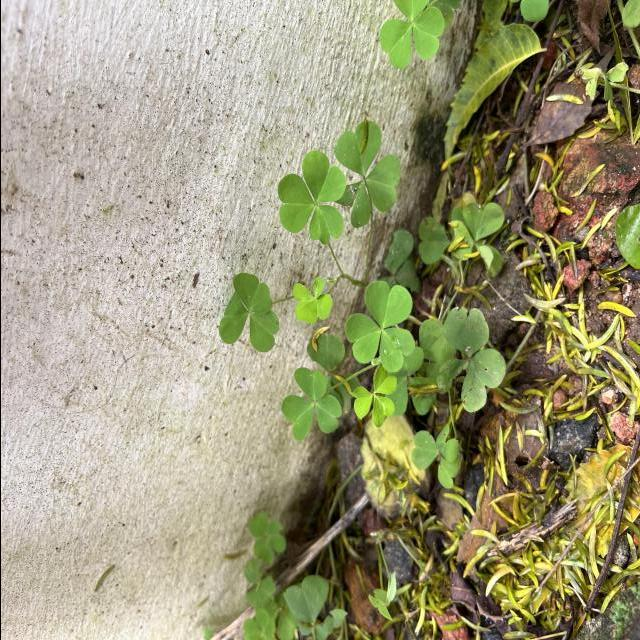Oxalis corniculata: (332, 120, 400, 229), (441, 306, 506, 414), (343, 280, 415, 374), (276, 150, 346, 246), (217, 272, 279, 354), (377, 0, 444, 72), (280, 366, 342, 442), (410, 423, 460, 489), (348, 364, 397, 428), (291, 276, 333, 324)
